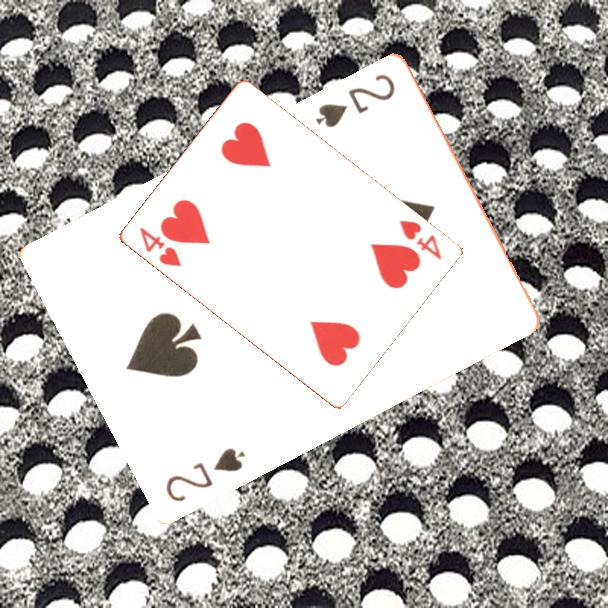h04: (394, 216, 444, 263), (136, 223, 184, 270)
s02: (312, 69, 399, 130), (162, 443, 249, 504)
